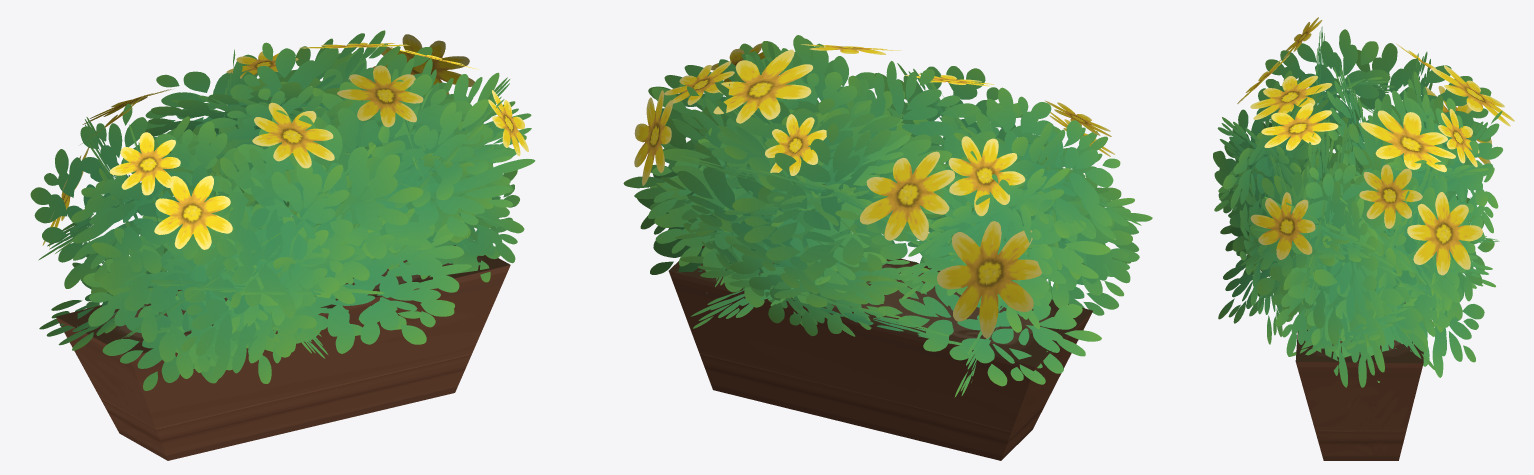
File: SM_PROP_plant_pot_city_04.fbx
3 views of the same model, side by side, from view 1: azimuth 30°, elevation 25°; view 2: azimuth 150°, elevation 25°; view 3: azimuth 270°, elevation 25° (orthographic). The views are drawn at different scales.
Parts seen in each view (by area): view 1: SM_PROP_plant_pot_city_04_foliage, SM_PROP_plant_pot_city_04; view 2: SM_PROP_plant_pot_city_04_foliage, SM_PROP_plant_pot_city_04; view 3: SM_PROP_plant_pot_city_04_foliage, SM_PROP_plant_pot_city_04.
Boxes of the visible parts, <box> form: SM_PROP_plant_pot_city_04_foliage: <box>30,30,535,390</box>; SM_PROP_plant_pot_city_04: <box>56,245,510,460</box>; SM_PROP_plant_pot_city_04_foliage: <box>623,35,1152,397</box>; SM_PROP_plant_pot_city_04: <box>668,246,1092,460</box>; SM_PROP_plant_pot_city_04_foliage: <box>1213,17,1514,387</box>; SM_PROP_plant_pot_city_04: <box>1295,302,1423,460</box>.
Size of the model in its own units: 105 by 71.87 by 63.73.
